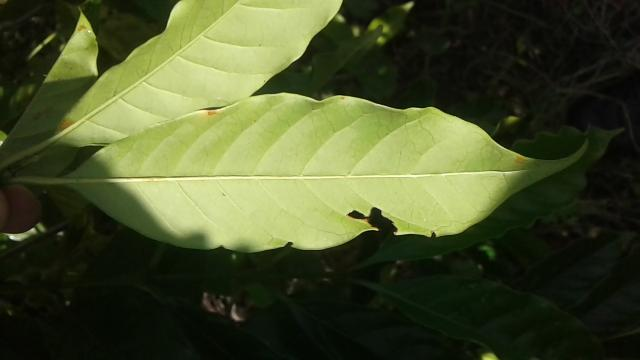rust_level_1: (62, 84, 596, 260)
